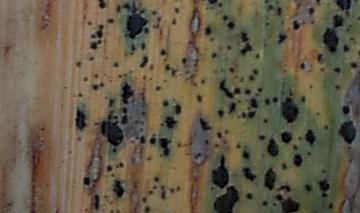tarspot: (214, 185, 238, 213), (100, 119, 123, 146), (213, 154, 228, 188), (127, 14, 147, 38), (280, 98, 299, 122), (338, 120, 357, 144), (323, 29, 338, 53), (264, 167, 276, 192), (281, 197, 299, 213), (219, 79, 233, 98), (76, 109, 87, 131), (122, 83, 133, 104), (267, 139, 279, 157), (159, 137, 170, 156), (243, 167, 256, 183), (199, 116, 212, 131), (113, 181, 124, 197), (306, 127, 315, 146), (280, 130, 292, 144), (318, 178, 330, 191), (164, 116, 177, 127), (333, 14, 343, 28), (336, 1, 351, 10), (241, 43, 252, 55), (293, 153, 302, 167), (93, 194, 100, 211), (277, 32, 286, 45), (277, 185, 291, 192), (240, 30, 248, 42), (250, 97, 258, 109), (131, 1, 138, 14), (141, 56, 148, 68), (292, 20, 300, 30), (98, 1, 106, 10), (227, 21, 235, 30), (122, 113, 128, 125), (229, 103, 236, 113), (242, 150, 249, 160), (83, 176, 90, 186), (96, 30, 104, 38), (175, 105, 182, 114), (196, 94, 203, 103), (343, 105, 350, 114), (276, 6, 282, 16), (140, 135, 146, 145), (123, 2, 131, 9), (217, 109, 224, 117), (266, 5, 274, 12), (248, 111, 256, 118), (276, 194, 283, 202), (205, 26, 211, 35), (171, 68, 177, 77), (305, 183, 311, 192), (90, 42, 97, 49), (343, 45, 350, 52), (149, 138, 156, 145), (350, 61, 357, 68), (115, 5, 121, 13), (160, 48, 166, 56), (222, 14, 228, 22), (234, 87, 240, 95), (216, 131, 222, 139), (258, 135, 266, 141), (246, 192, 252, 200), (76, 61, 82, 68), (153, 23, 160, 29), (195, 152, 201, 159), (272, 96, 278, 103), (318, 66, 325, 72), (292, 144, 298, 151), (348, 157, 354, 164), (141, 42, 146, 50), (109, 99, 114, 107), (171, 18, 176, 26), (208, 1, 218, 5), (309, 7, 314, 15), (317, 53, 322, 61), (300, 62, 305, 70), (282, 162, 287, 170), (38, 127, 46, 132), (108, 18, 114, 24), (92, 84, 98, 90), (82, 76, 88, 82), (89, 56, 95, 62), (163, 100, 169, 106), (309, 19, 315, 25), (175, 142, 181, 148), (321, 192, 327, 198), (161, 191, 165, 200), (352, 193, 356, 202), (138, 127, 144, 133), (99, 81, 104, 88), (139, 9, 146, 14), (131, 44, 136, 51), (114, 61, 119, 68), (175, 7, 180, 14), (182, 57, 187, 64), (165, 63, 170, 70), (212, 51, 217, 58), (245, 88, 250, 95), (249, 74, 254, 81), (345, 10, 350, 17), (241, 111, 246, 118), (333, 68, 340, 73), (240, 76, 245, 83), (262, 201, 269, 206), (145, 206, 150, 213), (62, 85, 69, 90), (94, 73, 99, 79), (97, 39, 102, 45), (90, 33, 95, 39), (99, 24, 104, 30), (122, 107, 127, 113), (109, 109, 115, 114), (152, 10, 157, 16), (156, 85, 161, 91), (201, 78, 206, 84), (229, 67, 234, 73), (253, 69, 258, 75), (255, 53, 260, 59), (265, 99, 270, 105), (335, 84, 340, 90), (236, 143, 241, 149), (316, 110, 321, 116), (154, 176, 159, 182), (119, 162, 124, 168), (107, 165, 112, 171), (93, 121, 99, 126), (223, 56, 229, 61), (263, 42, 268, 48), (128, 69, 134, 74), (113, 115, 118, 120), (107, 115, 112, 120), (157, 17, 162, 22), (142, 75, 147, 80), (185, 70, 190, 75), (218, 3, 223, 8), (226, 45, 231, 50), (214, 143, 219, 148), (301, 97, 306, 102), (297, 135, 302, 140), (152, 184, 157, 189), (142, 197, 147, 202), (112, 148, 117, 153), (110, 172, 115, 177), (116, 208, 121, 213), (31, 155, 36, 160), (347, 145, 352, 150), (103, 95, 108, 100), (162, 78, 167, 83), (133, 184, 138, 189), (280, 20, 285, 25), (79, 92, 83, 98), (145, 27, 149, 33), (129, 52, 135, 56), (150, 64, 154, 70), (258, 87, 262, 93), (205, 140, 209, 146), (193, 82, 197, 88), (324, 125, 328, 131), (329, 203, 333, 209), (176, 186, 180, 192), (147, 190, 153, 194), (357, 49, 360, 57), (88, 21, 92, 26), (123, 73, 128, 77), (265, 22, 270, 26), (317, 1, 321, 6), (135, 135, 139, 140), (349, 37, 354, 41), (345, 28, 350, 32), (348, 24, 352, 29), (172, 97, 176, 102), (263, 118, 267, 123), (237, 100, 242, 104), (308, 151, 312, 156), (322, 169, 326, 174), (272, 202, 277, 206), (104, 194, 108, 199), (77, 137, 81, 142), (69, 150, 73, 155), (109, 78, 113, 83), (302, 20, 306, 25), (222, 140, 227, 144), (93, 183, 96, 189), (142, 111, 146, 115), (147, 157, 151, 161), (160, 122, 164, 126), (150, 77, 154, 81), (210, 38, 214, 42), (309, 85, 313, 89), (170, 188, 174, 192), (161, 185, 165, 189), (110, 209, 114, 213), (55, 209, 59, 213), (214, 69, 218, 73), (119, 74, 122, 79), (263, 1, 268, 4), (153, 133, 156, 138), (354, 1, 359, 4), (130, 141, 135, 144), (225, 130, 228, 134), (290, 92, 293, 96), (358, 15, 360, 21), (164, 58, 167, 62), (196, 59, 199, 62), (135, 120, 138, 123)
